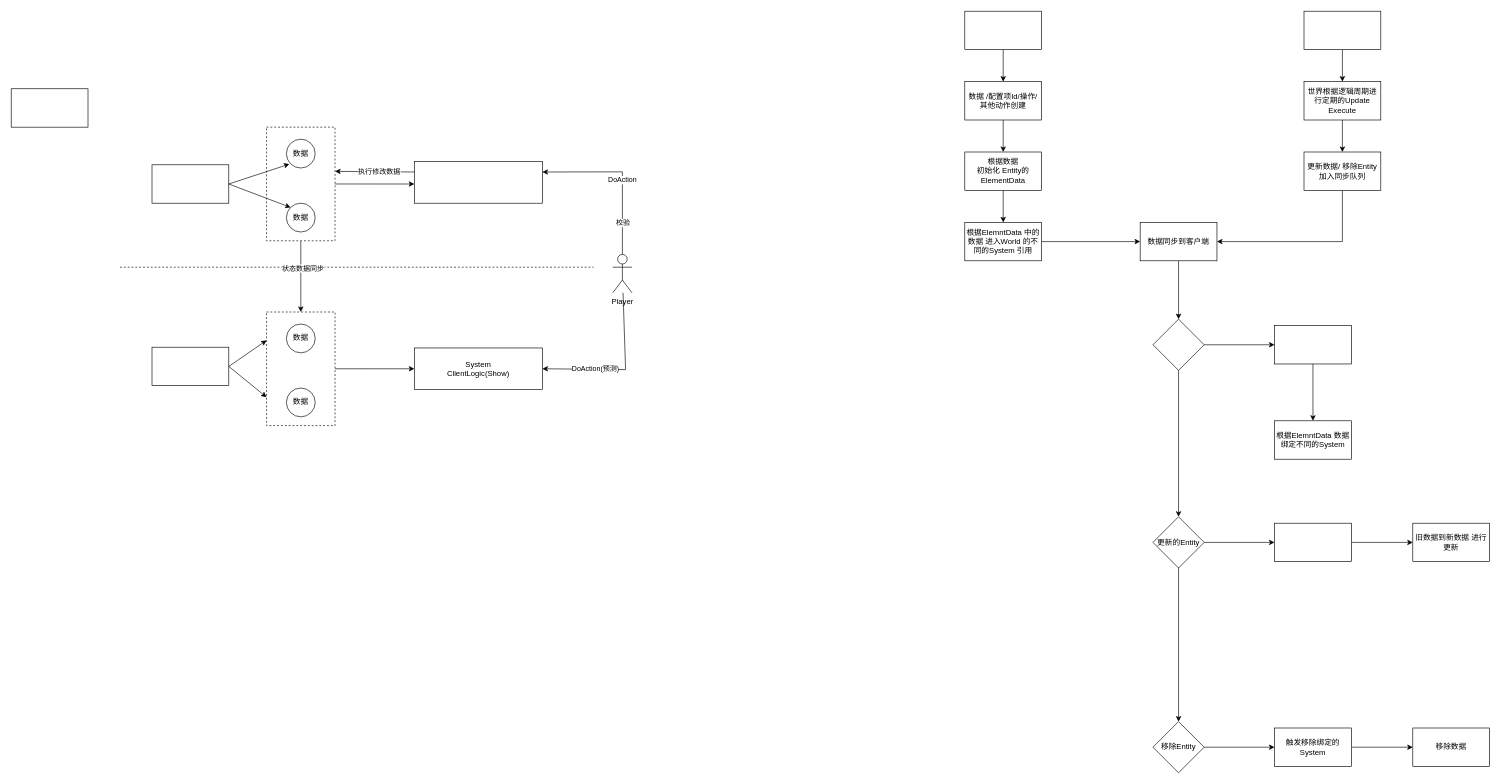
Some shapes in this 1501 by 784 pixel diagram are drawn without their labels. Here are the shapes that lost their labels. From the top down, the centre of each, then its label:
At [1003,30]: "初始化流程".
At [1342,30]: "定期更新流程".
At [49,107]: "World".
At [190,183]: "Server UnitEntity".
At [478,182]: "System ServerLogic".
At [1178,344]: "新增的Entity".
At [1312,344]: "挂载到客户端的World".
At [190,366]: "Client UnitEntity".
At [1312,542]: "触发更新Entity 绑定的System".
